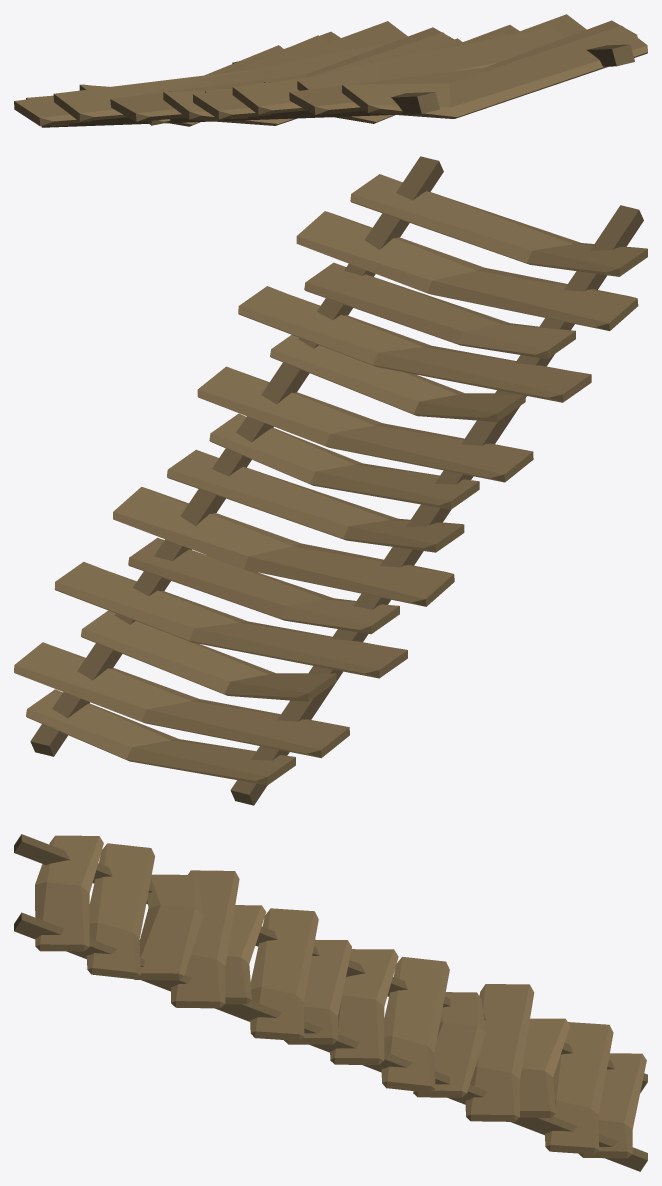
Rendered from SM_Bld_Rickety_Dock_Stairs_02.fbx.
3 renders of one model, top to bottom at view 1: azimuth 30°, elevation 25°; view 2: azimuth 150°, elevation 25°; view 3: azimuth 270°, elevation 25°, orthographic. The views are drawn at different scales.
Parts seen in each view (by area): view 1: SM_Bld_Rickety_Dock_Stairs_02; view 2: SM_Bld_Rickety_Dock_Stairs_02; view 3: SM_Bld_Rickety_Dock_Stairs_02.
Boxes of the visible parts, x1,y1,x2,y2 form: SM_Bld_Rickety_Dock_Stairs_02: (14, 14, 647, 127); SM_Bld_Rickety_Dock_Stairs_02: (14, 156, 647, 805); SM_Bld_Rickety_Dock_Stairs_02: (14, 834, 647, 1171).
Size of the model in its own units: 1.68 by 1.5 by 3.43.
